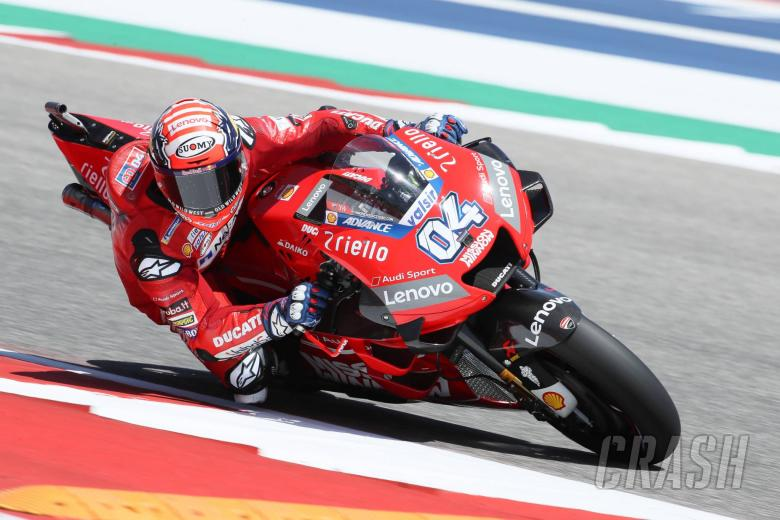helmet: (143, 83, 252, 241)
